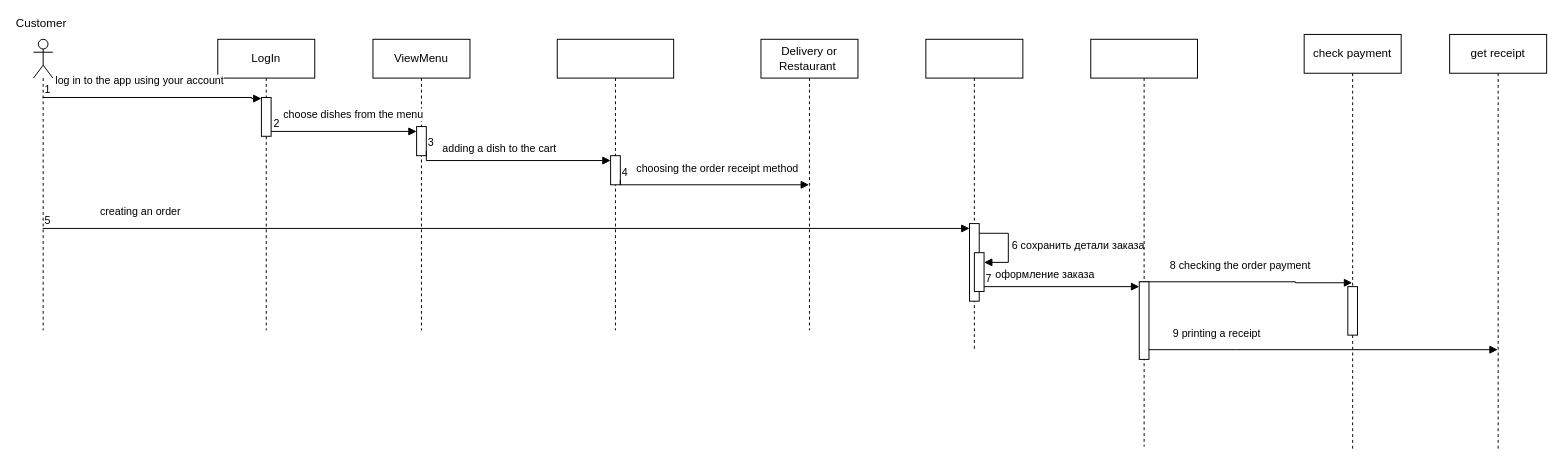
Some shapes in this 1564 by 469 pixel diagram are drawn without their labels. Each missing label, with the centre of its shape:
"Add Pizza in Cart" goes at (x=615, y=184).
"Order Management Manager" goes at (x=1143, y=242).
"order verification" goes at (x=974, y=194).
